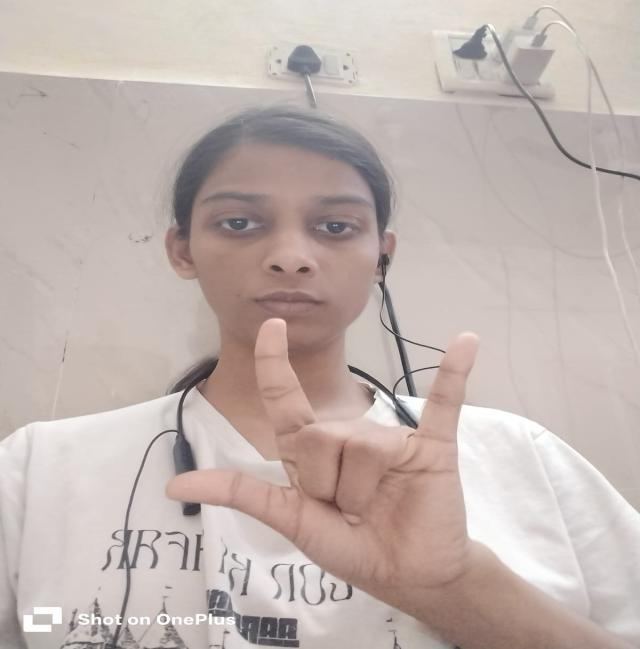I Love You: (154, 307, 490, 603)
